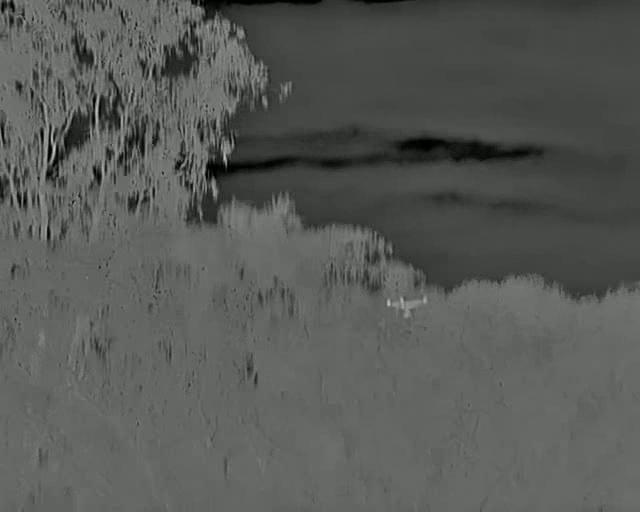DJI-Phantom: (385, 292, 430, 321)
